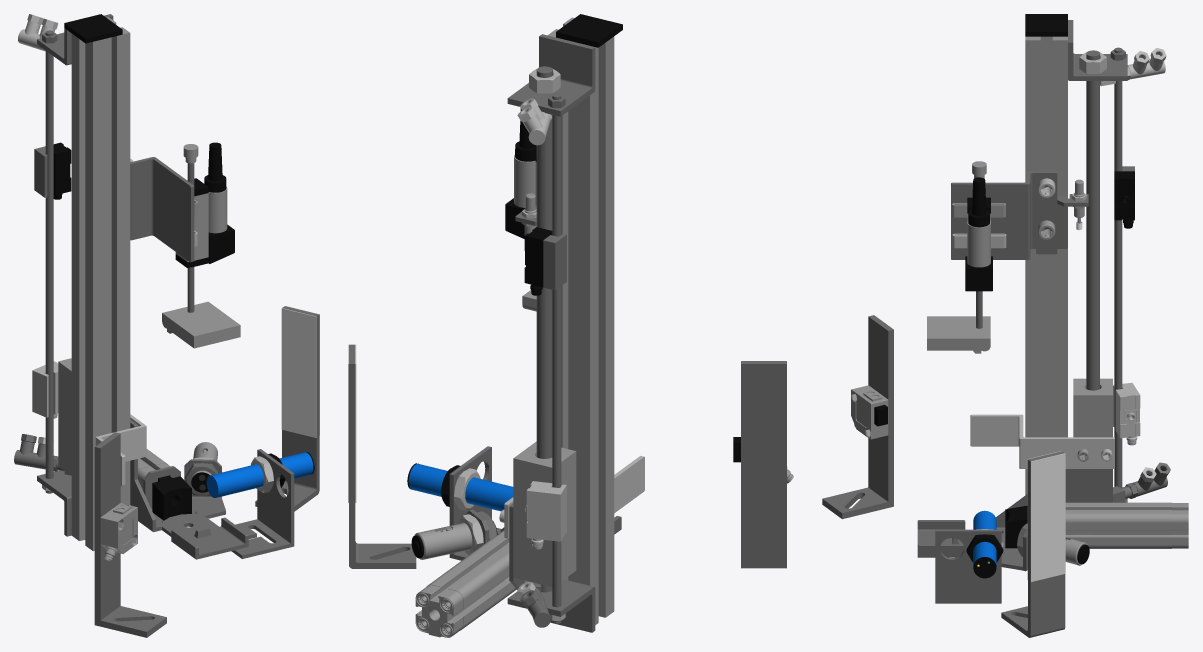
The model's file is Heben.fbx.
The picture shows the model from 3 angles, left to right: view 1: azimuth 30°, elevation 25°; view 2: azimuth 150°, elevation 25°; view 3: azimuth 270°, elevation 25°; orthographic projection. The views are drawn at different scales.
Parts seen in each view (by area): view 1: et_1008_Pruefen_Profil_Halterung_420_body1_2, et_1011_Pruefen_Winkel_Lichtschranke_body1_2, et_1047_Prufen_Heben_Halterung_body1_2, et_1053_Pruefen_Winkel_body1_2, et_1066_Pruefen_Reflektor_Winkel_body3_2, et_1038_Pruefen_Stange_Naeherungsschalter_body1_2, et_1064_Pruefen_Sensor_Winkel_body1_2, et_1058_Pruefen_Endschalter_Z_Klappe_body1_2, et_1066_Pruefen_Reflektor_Winkel_body1_2, et_1063_Pruefen_Sensor_body4_2, et_1010_Pruefen_Lichtschranke_S_body1_2, et_1061_Pruefen_Stromversorgung_body2_2 (+17 smaller); view 2: et_1008_Pruefen_Profil_Halterung_420_body1_2, et_1011_Pruefen_Winkel_Lichtschranke_body1_2, et_1026_Pruefen_Kompaktzylinder_body1_1__2, et_1041_Pruefen_Heben_Zylinder_body1_2, et_1042_Pruefen_Heben_Stange_body1_2, et_1038_Pruefen_Stange_Naeherungsschalter_body1_2, et_1039_Pruefen_Stange_Winkel_body1_2, et_1066_Pruefen_Reflektor_Winkel_body1_2, et_1063_Pruefen_Sensor_body4_2, et_1040_Pruefen_Stange_Winkel_body1_2, et_1049_Pruefen_Heben_Winkel_Halterung_body1_2, et_1033_Pruefen_Reflex_Lichttaster_body2_2 (+9 smaller); view 3: et_1008_Pruefen_Profil_Halterung_420_body1_2, et_1053_Pruefen_Winkel_body1_2, et_1026_Pruefen_Kompaktzylinder_body1_1__2, et_1011_Pruefen_Winkel_Lichtschranke_body1_2, et_1042_Pruefen_Heben_Stange_body1_2, et_1066_Pruefen_Reflektor_Winkel_body2_2, et_1049_Pruefen_Heben_Winkel_Halterung_body1_2, et_1047_Prufen_Heben_Halterung_body1_2, et_1064_Pruefen_Sensor_Winkel_body1_2, et_1066_Pruefen_Reflektor_Winkel_body1_2, et_1038_Pruefen_Stange_Naeherungsschalter_body1_2, et_1041_Pruefen_Heben_Zylinder_body1_2 (+10 smaller).
Part boxes in pixels (x1,y1,x2,y2): et_1008_Pruefen_Profil_Halterung_420_body1_2: (71,17,130,551); et_1011_Pruefen_Winkel_Lichtschranke_body1_2: (94,432,166,637); et_1047_Prufen_Heben_Halterung_body1_2: (130,419,248,559); et_1053_Pruefen_Winkel_body1_2: (130,157,194,262); et_1066_Pruefen_Reflektor_Winkel_body3_2: (281,308,316,437); et_1038_Pruefen_Stange_Naeherungsschalter_body1_2: (45,30,53,493); et_1064_Pruefen_Sensor_Winkel_body1_2: (231,449,294,558); et_1058_Pruefen_Endschalter_Z_Klappe_body1_2: (162,301,240,348); et_1066_Pruefen_Reflektor_Winkel_body1_2: (255,306,319,511); et_1063_Pruefen_Sensor_body4_2: (206,452,313,497); et_1010_Pruefen_Lichtschranke_S_body1_2: (100,503,137,561); et_1061_Pruefen_Stromversorgung_body2_2: (208,186,234,263); et_1008_Pruefen_Profil_Halterung_420_body1_2: (547,17,614,624); et_1011_Pruefen_Winkel_Lichtschranke_body1_2: (741,361,786,568); et_1026_Pruefen_Kompaktzylinder_body1_1__2: (415,530,516,637); et_1041_Pruefen_Heben_Zylinder_body1_2: (513,441,576,586); et_1042_Pruefen_Heben_Stange_body1_2: (536,66,552,592); et_1038_Pruefen_Stange_Naeherungsschalter_body1_2: (552,93,561,623); et_1039_Pruefen_Stange_Winkel_body1_2: (507,34,595,116); et_1066_Pruefen_Reflektor_Winkel_body1_2: (349,344,416,568); et_1063_Pruefen_Sensor_body4_2: (408,463,513,511); et_1040_Pruefen_Stange_Winkel_body1_2: (507,579,595,632); et_1049_Pruefen_Heben_Winkel_Halterung_body1_2: (504,456,644,538); et_1033_Pruefen_Reflex_Lichttaster_body2_2: (414,521,497,559); et_1008_Pruefen_Profil_Halterung_420_body1_2: (1025,36,1067,495); et_1053_Pruefen_Winkel_body1_2: (951,171,1088,259); et_1026_Pruefen_Kompaktzylinder_body1_1__2: (1065,502,1188,548); et_1011_Pruefen_Winkel_Lichtschranke_body1_2: (822,315,893,519); et_1042_Pruefen_Heben_Stange_body1_2: (1086,50,1099,390); et_1066_Pruefen_Reflektor_Winkel_body2_2: (1030,453,1065,581); et_1049_Pruefen_Heben_Winkel_Halterung_body1_2: (970,414,1114,468); et_1047_Prufen_Heben_Halterung_body1_2: (917,469,1112,571); et_1064_Pruefen_Sensor_Winkel_body1_2: (935,529,1001,603); et_1066_Pruefen_Reflektor_Winkel_body1_2: (1001,451,1065,637); et_1038_Pruefen_Stange_Naeherungsschalter_body1_2: (1114,47,1122,487); et_1041_Pruefen_Heben_Zylinder_body1_2: (1073,378,1112,437).
Bounding box in the file's own units: 26.24 × 27.58 × 42.4.
